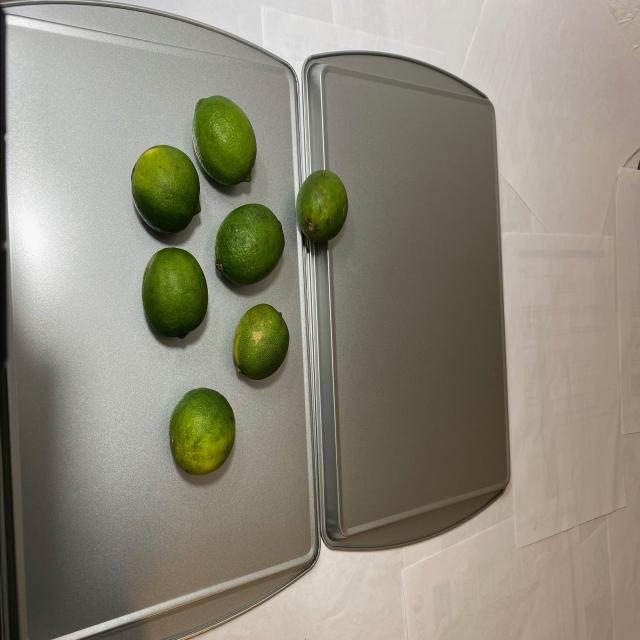lemon: (132, 94, 348, 477)
